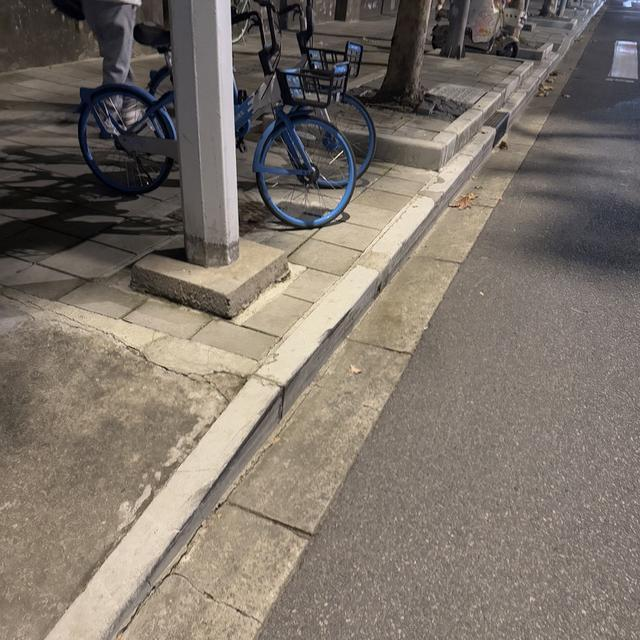curb: (46, 52, 562, 635), (376, 60, 534, 172), (131, 238, 289, 318), (515, 43, 553, 61), (527, 18, 578, 29)
